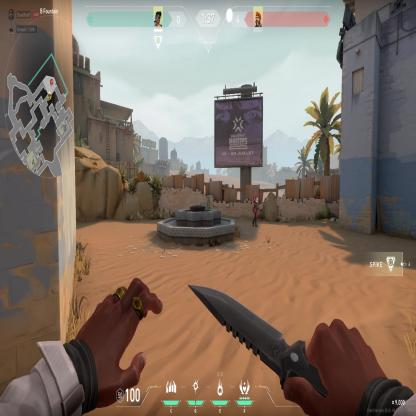enemy: (252, 192, 258, 227)
